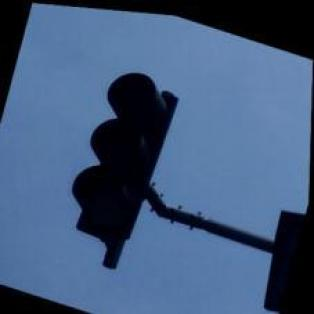Semaforo Verde: (64, 54, 185, 252)
